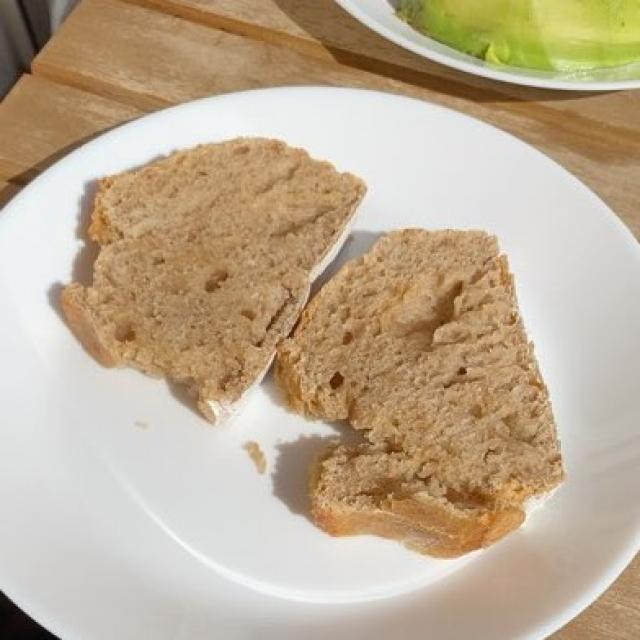bread: (60, 148, 561, 549)
